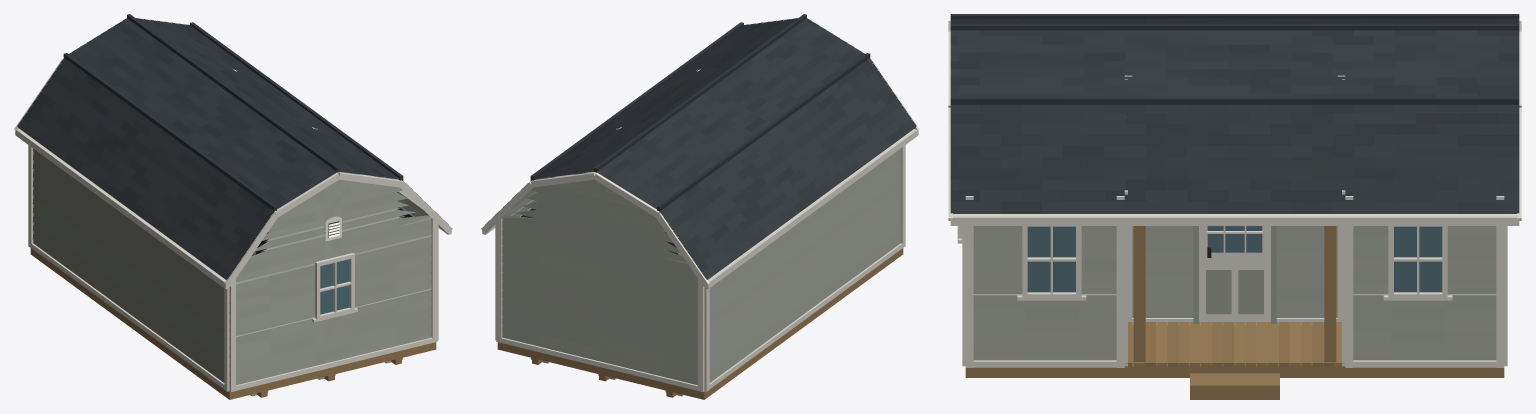
File: 08-side-porch.glb
The picture shows the model from 3 angles, left to right: view 1: azimuth 30°, elevation 25°; view 2: azimuth 150°, elevation 25°; view 3: azimuth 270°, elevation 25°; orthographic projection. The views are drawn at different scales.
Visible parts, largest first — view 1: Main roof, front wall, left wall, Floor platform and skids, front wall window, right forward bay; view 2: Main roof, rear wall, left wall, Floor platform and skids, right back bay; view 3: Main roof, right forward bay, right back bay, Porch decking, columns and rails, right recessed entry wall, right recessed entry wall entry, Floor platform and skids, right forward bay window, right back bay window, front recess return wall, rear recess return wall, front wall (+1 smaller).
Boxes of the visible parts, <box> form: Main roof: <box>14,14,452,289</box>; front wall: <box>229,171,437,392</box>; left wall: <box>28,145,229,391</box>; Floor platform and skids: <box>30,248,436,399</box>; front wall window: <box>312,253,357,322</box>; right forward bay: <box>397,192,438,340</box>; Main roof: <box>481,14,919,289</box>; rear wall: <box>496,172,704,392</box>; left wall: <box>704,145,905,391</box>; Floor platform and skids: <box>497,248,903,399</box>; right back bay: <box>495,192,536,340</box>; Main roof: <box>948,14,1521,225</box>; right forward bay: <box>965,196,1124,367</box>; right back bay: <box>1345,196,1504,367</box>; Porch decking, columns and rails: <box>1125,226,1344,399</box>; right recessed entry wall: <box>1124,75,1345,325</box>; right recessed entry wall entry: <box>1193,226,1276,323</box>; Floor platform and skids: <box>965,325,1504,377</box>; right forward bay window: <box>1017,226,1086,300</box>; right back bay window: <box>1383,226,1452,300</box>; front recess return wall: <box>1342,79,1345,366</box>; rear recess return wall: <box>1124,79,1127,366</box>; front wall: <box>962,226,965,366</box>.
Bounding box in the file's own units: 4.17 × 3.68 × 6.49.
